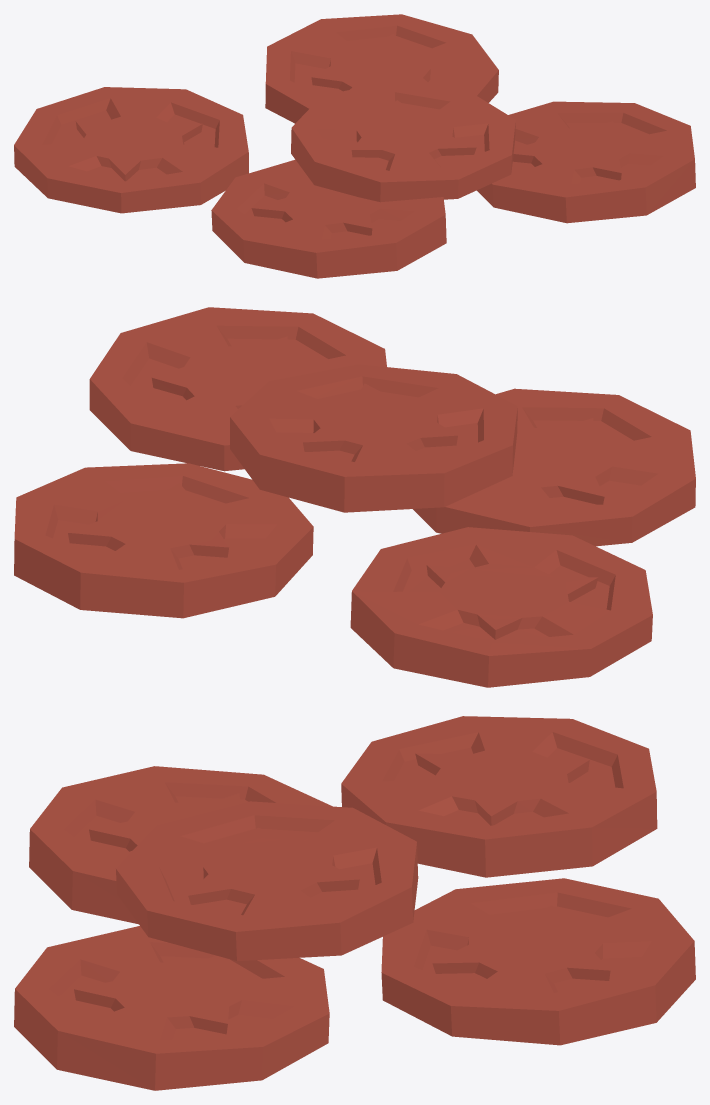
Rendered from Tomato_Slice.glb.
The picture shows the model from 3 angles, top to bottom: view 1: azimuth 30°, elevation 25°; view 2: azimuth 150°, elevation 25°; view 3: azimuth 270°, elevation 25°; orthographic projection. The views are drawn at different scales.
Visible parts, largest first — view 1: Tomato_Slice; view 2: Tomato_Slice; view 3: Tomato_Slice.
Boxes of the visible parts, x1,y1,x2,y2 form: Tomato_Slice: (14, 14, 695, 278); Tomato_Slice: (14, 307, 695, 687); Tomato_Slice: (14, 716, 695, 1090).
Size of the model in its own units: 0.8057 by 0.0765 by 0.6687.
